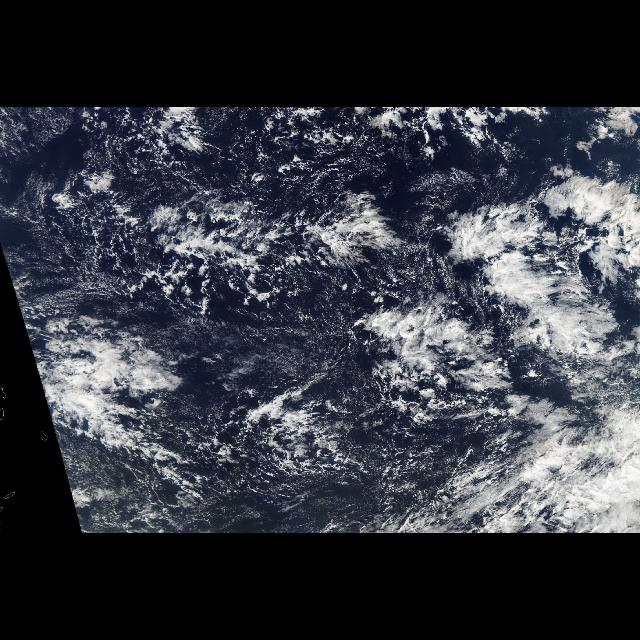Fish: (81, 186, 423, 312)
Gravel: (39, 109, 410, 511)
Sugar: (135, 310, 355, 398)
